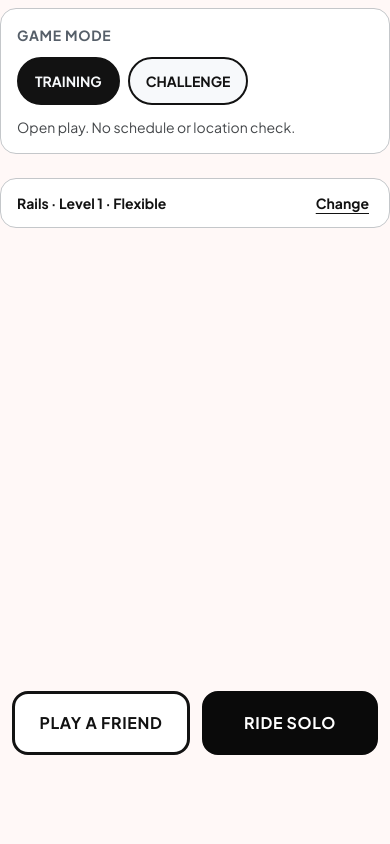
Test: GameCreateForm › submits Training from the mobile setup dialog
Click the button with test id "mobile-review-trigger": (342, 203) [304,179,381,227]
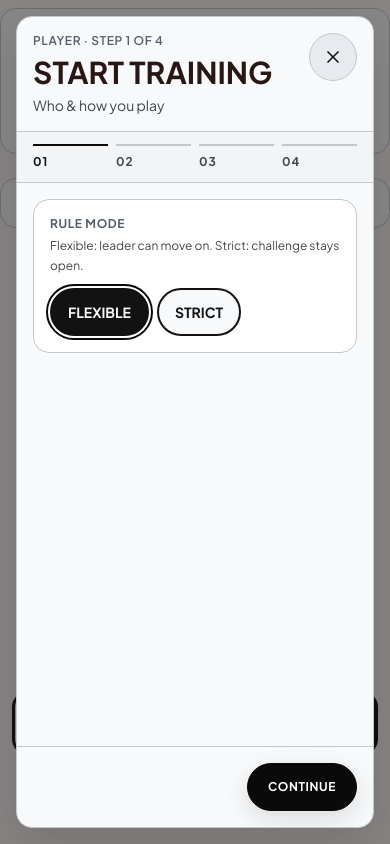
Now the radio button labelled "Flexible" is shown, box [50,288,149,336]
Click the button "Continue": (302, 787) [247,763,357,811]
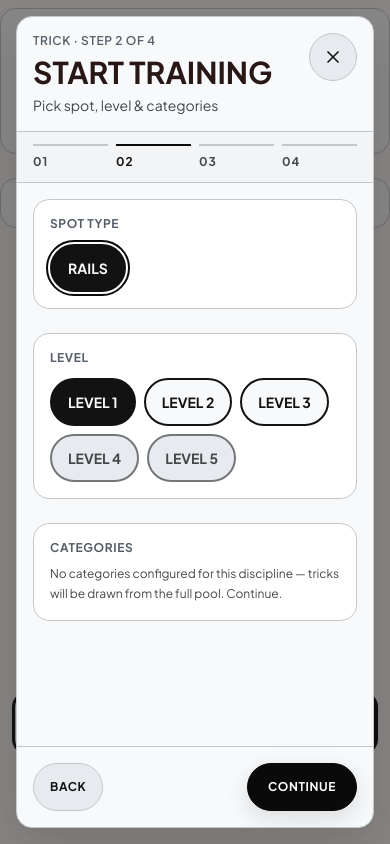
Now the radio button labelled "Rails" is shown, box [50,244,126,292]
Click the button "Continue": (302, 787) [247,763,357,811]
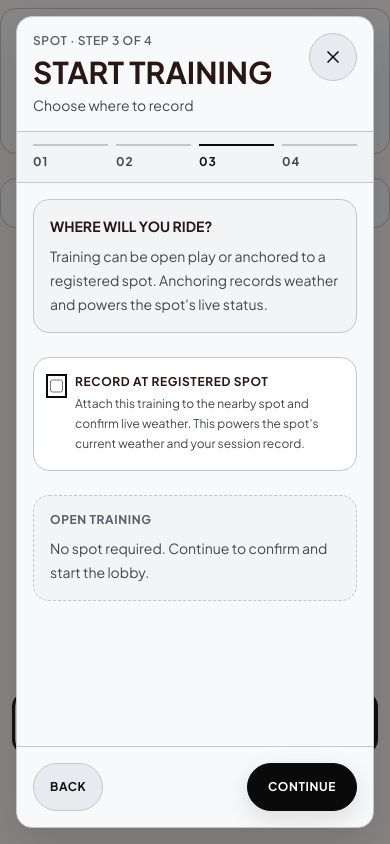
Click the button "Continue": (302, 787) [247,763,357,811]
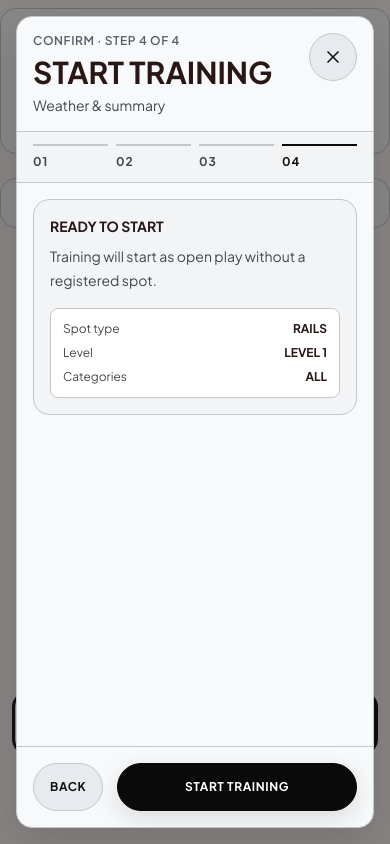
Now the text "Ready to start" is shown, box [50,217,164,235]
Click the button with test id "mobile-create-game": (237, 787) [117,763,357,811]
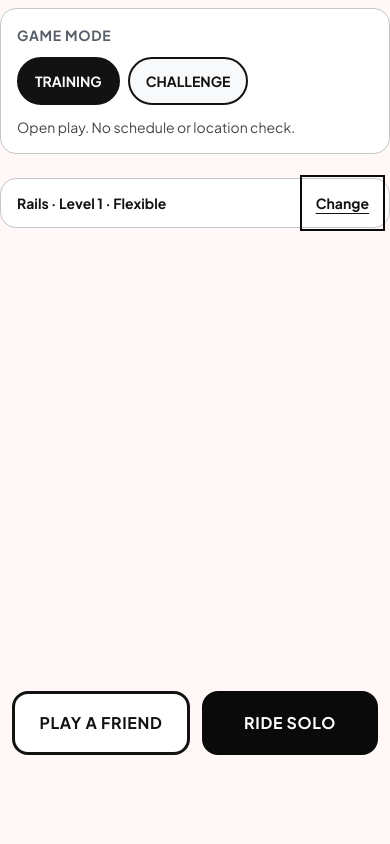
Now the heading "Start training" is gone
